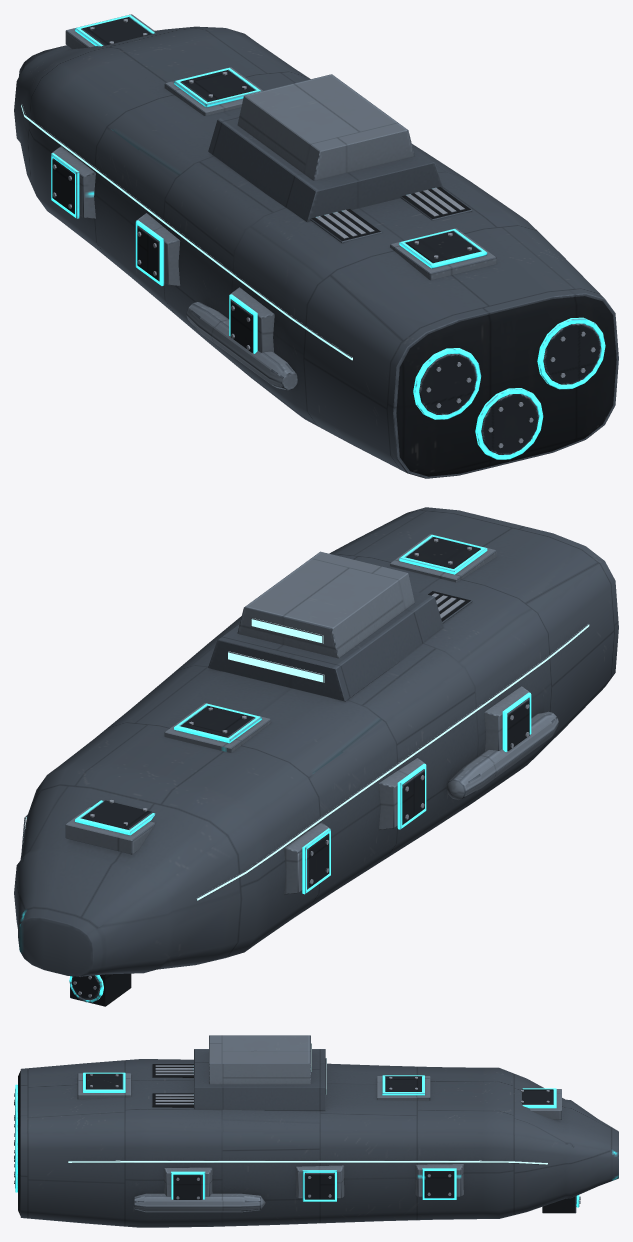
File: casco_fragata_t3.fbx
The picture shows the model from 3 angles, top to bottom: view 1: azimuth 30°, elevation 25°; view 2: azimuth 150°, elevation 25°; view 3: azimuth 270°, elevation 25°; orthographic projection. The views are drawn at different scales.
Parts seen in each view (by area): view 1: casco_fragata_t3, casco_fragata_t3_neon; view 2: casco_fragata_t3, casco_fragata_t3_neon; view 3: casco_fragata_t3, casco_fragata_t3_neon.
Part boxes in pixels (x1=…): casco_fragata_t3: x1=14, y1=14, x2=618, y2=478; casco_fragata_t3_neon: x1=21, y1=105, x2=352, y2=360; casco_fragata_t3: x1=14, y1=507, x2=618, y2=1006; casco_fragata_t3_neon: x1=23, y1=618, x2=589, y2=900; casco_fragata_t3: x1=14, y1=1035, x2=618, y2=1227; casco_fragata_t3_neon: x1=68, y1=1043, x2=547, y2=1164.
Bounding box in the file's own units: 10.22 × 8.46 × 28.31.
